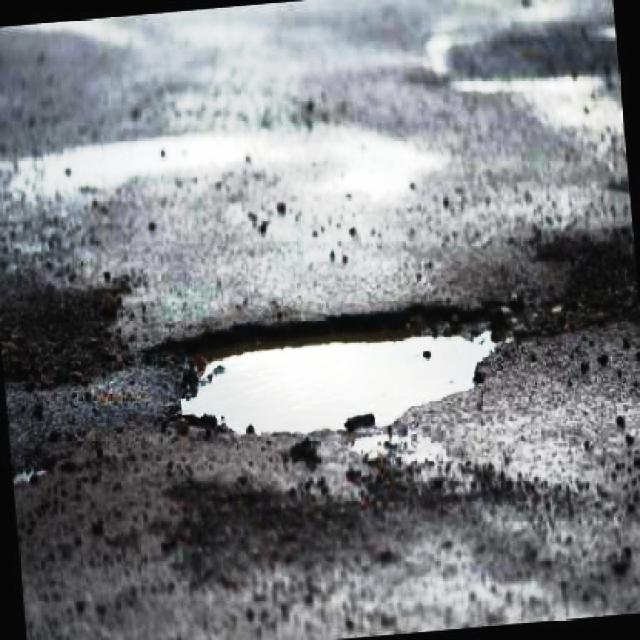pothole: (139, 297, 523, 438)
